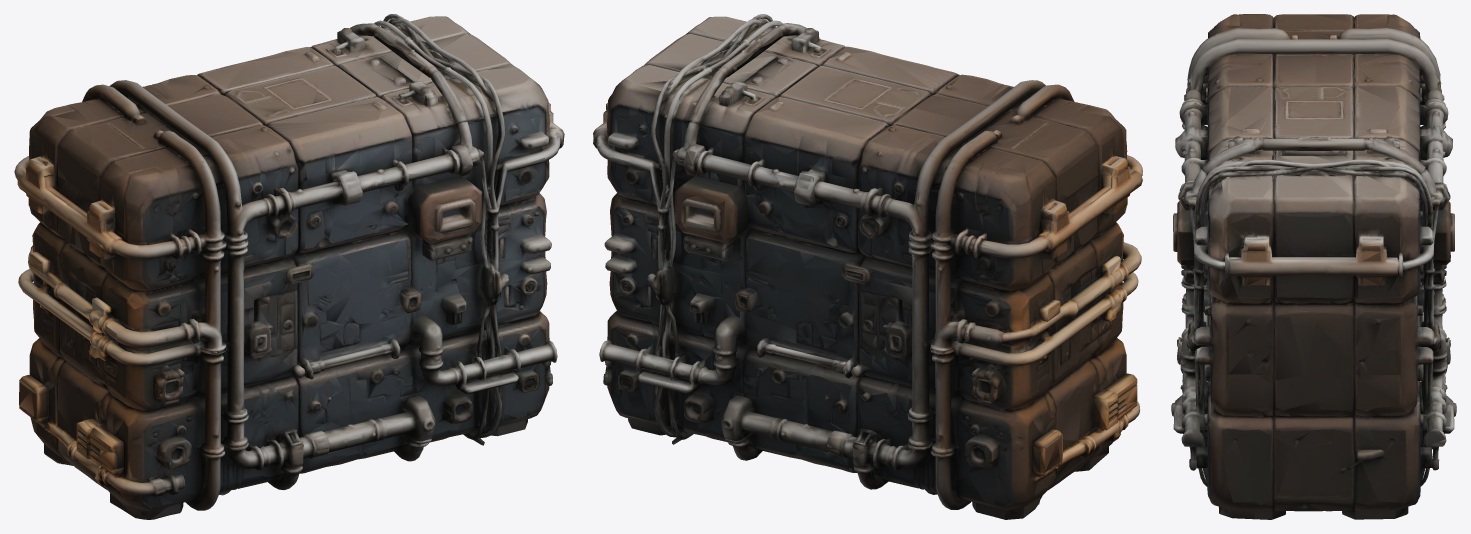
The model's file is tripo_convert_e2d9bb60-f6c0-4c71-9c62-bde003294024.fbx.
3 renders of one model, left to right at view 1: azimuth 30°, elevation 25°; view 2: azimuth 150°, elevation 25°; view 3: azimuth 270°, elevation 25°, orthographic. The views are drawn at different scales.
Parts seen in each view (by area): view 1: tripo_node_e2d9bb60; view 2: tripo_node_e2d9bb60; view 3: tripo_node_e2d9bb60.
Part boxes in pixels (box(x1,y1,x2,y2)): tripo_node_e2d9bb60: box(14, 14, 564, 519); tripo_node_e2d9bb60: box(593, 14, 1142, 519); tripo_node_e2d9bb60: box(1171, 14, 1456, 519).
Bounding box in the file's own units: 97.82 × 55.67 × 75.4.
1 material, 1 textured.
